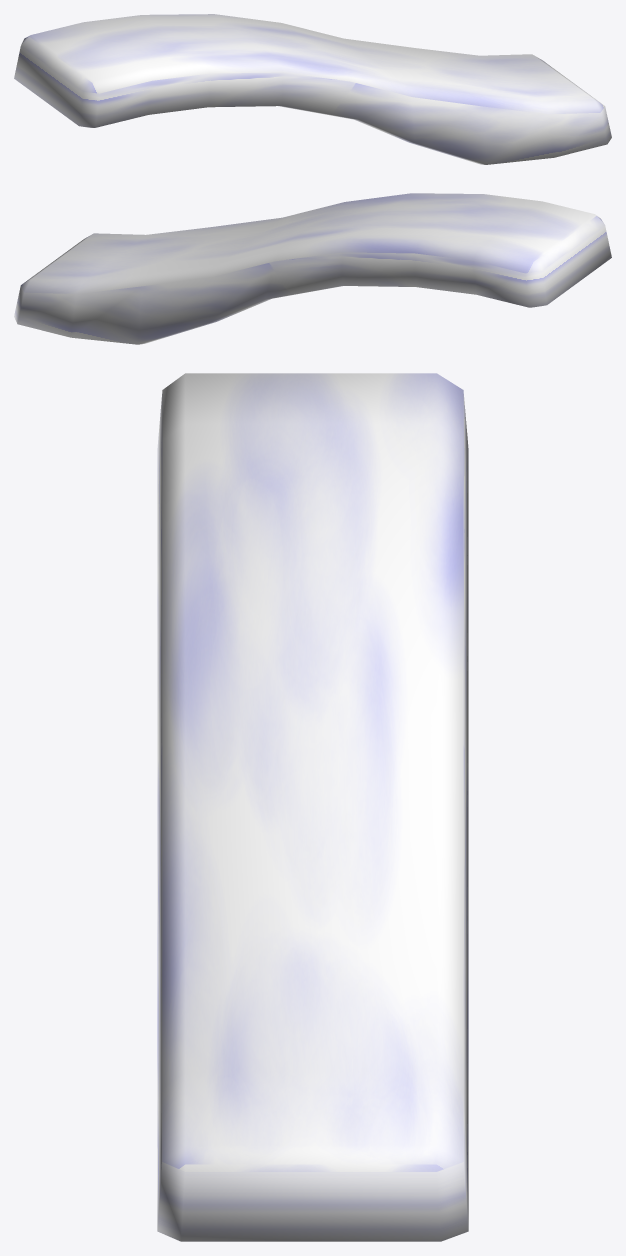
Rendered from rd_b41_snow.obj.
3 renders of one model, top to bottom at view 1: azimuth 30°, elevation 25°; view 2: azimuth 150°, elevation 25°; view 3: azimuth 270°, elevation 25°, orthographic. The views are drawn at different scales.
Visible parts, largest first — view 1: polySurface8; view 2: polySurface8; view 3: polySurface8.
Part boxes in pixels (box(x1,y1,x2,y2)): polySurface8: box(14, 14, 611, 164); polySurface8: box(14, 193, 611, 344); polySurface8: box(157, 373, 468, 1241).
Bounding box in the file's own units: 417 × 139 × 105.
Materials: 2 (2 with a texture image).
